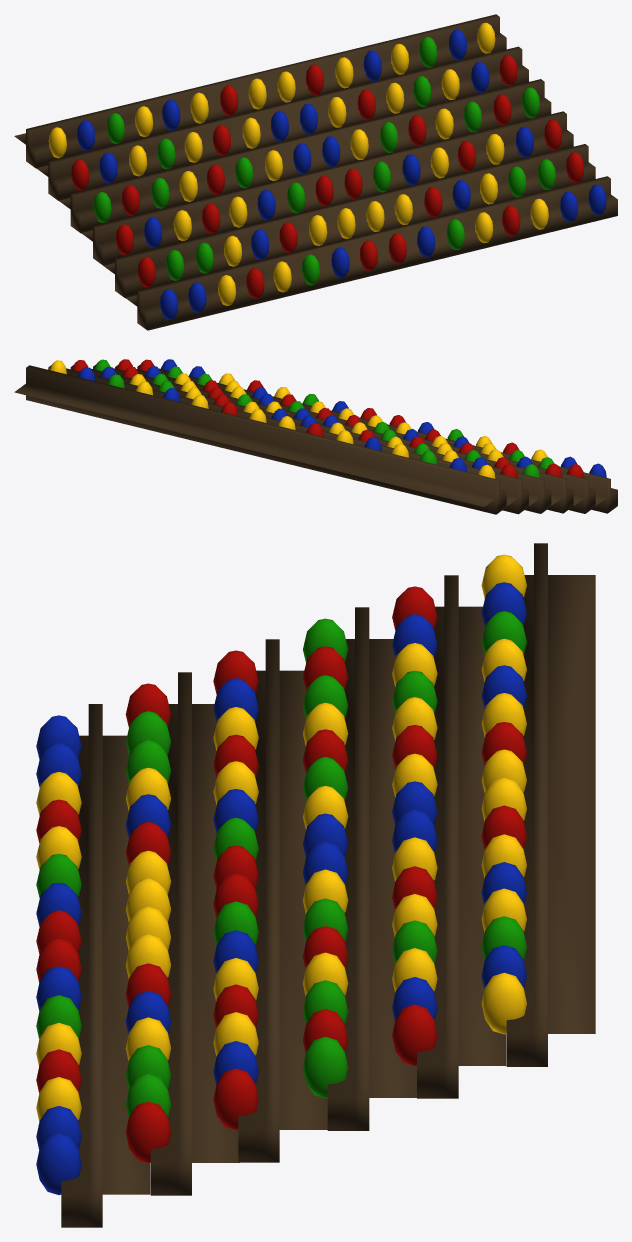
File: Tribune.fbx
3 views of the same model, one above another, from view 1: azimuth 30°, elevation 25°; view 2: azimuth 150°, elevation 25°; view 3: azimuth 270°, elevation 25° (orthographic). The views are drawn at different scales.
Parts seen in each view (by area): view 1: Tribune; view 2: Tribune; view 3: Tribune.
Boxes of the visible parts, box(x1,y1,x2,y2) form: Tribune: box(14, 14, 617, 330); Tribune: box(14, 359, 617, 514); Tribune: box(36, 543, 595, 1227).
Bounding box in the file's own units: 3061 × 729 × 1576.
